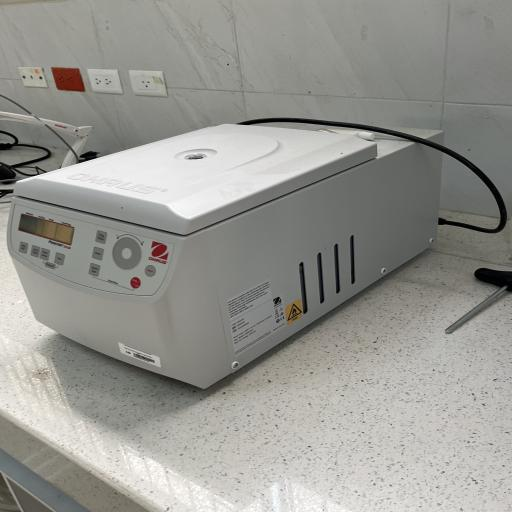Centrifuga_Ohaus_Frontier: (3, 106, 481, 401)
